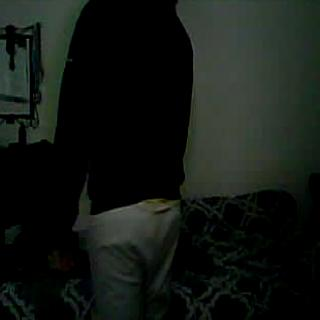White Sweatpants: (86, 190, 182, 320)
